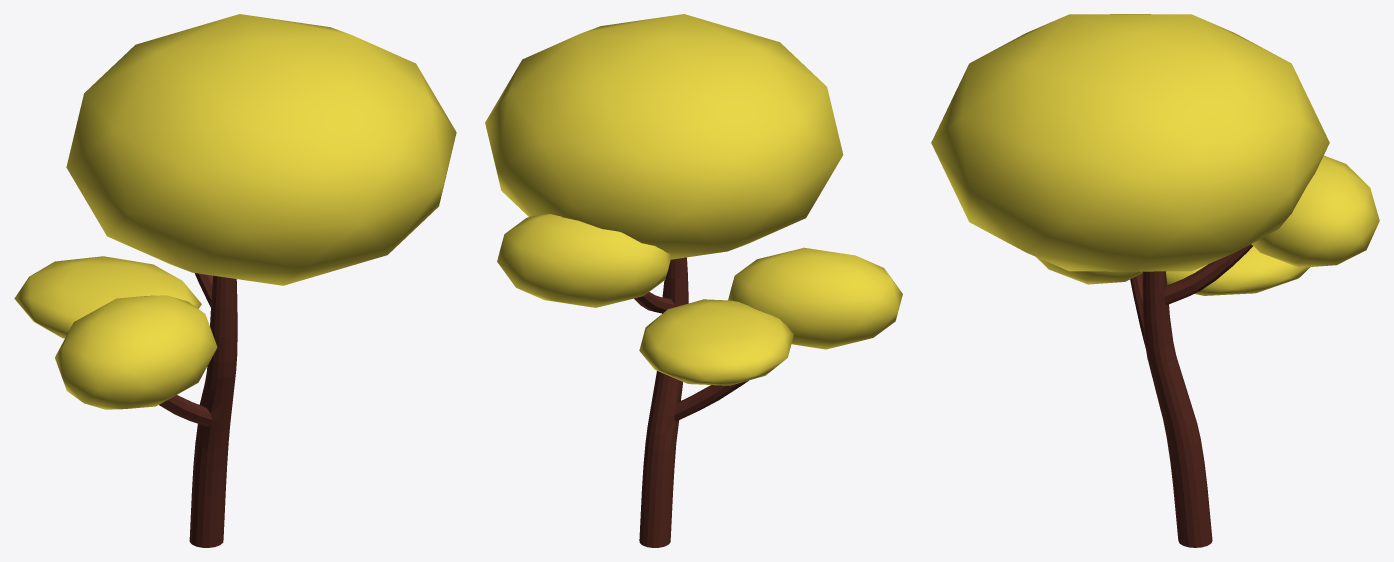
File: Tree3.fbx
The picture shows the model from 3 angles, left to right: view 1: azimuth 30°, elevation 25°; view 2: azimuth 150°, elevation 25°; view 3: azimuth 270°, elevation 25°; orthographic projection. The views are drawn at different scales.
Parts seen in each view (by area): view 1: Cylinder.003; view 2: Cylinder.003; view 3: Cylinder.003.
Boxes of the visible parts, x1,y1,x2,y2 form: Cylinder.003: (14,14,456,547); Cylinder.003: (485,14,902,547); Cylinder.003: (931,14,1379,547).
Size of the model in its own units: 957 by 1210 by 951.
